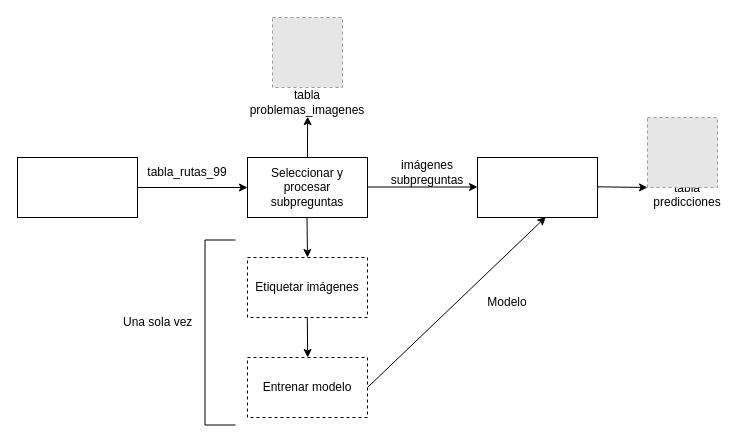
Image size: 738x443. Some labels were removed from this diagram. Grey dashed boxes stand in for pictures. The box of each missing label's shape, as (x1, y1, x2, y2) in pixels:
Predecir imágenes: (476, 156, 598, 218)
Procesar tabla dobles marcas: (16, 156, 138, 218)
